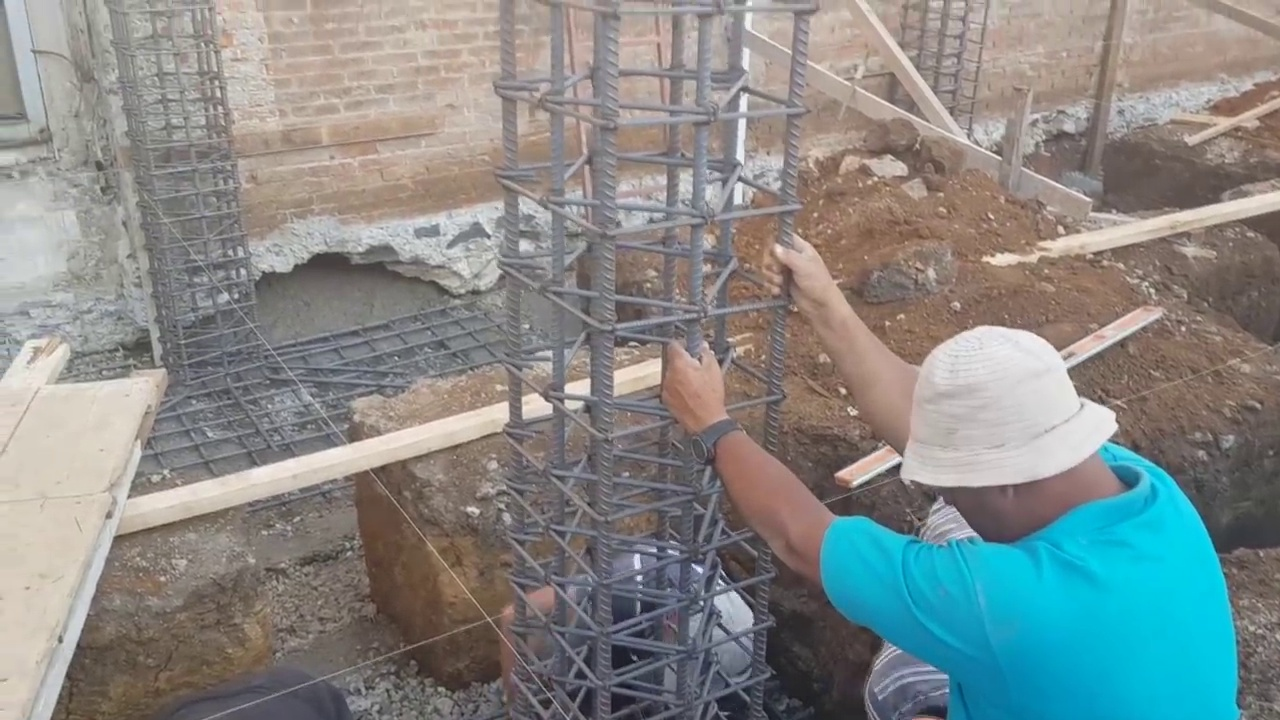helmet-off: (895, 340, 1143, 535), (658, 581, 758, 712)
person: (663, 226, 1239, 718), (498, 533, 775, 719)
